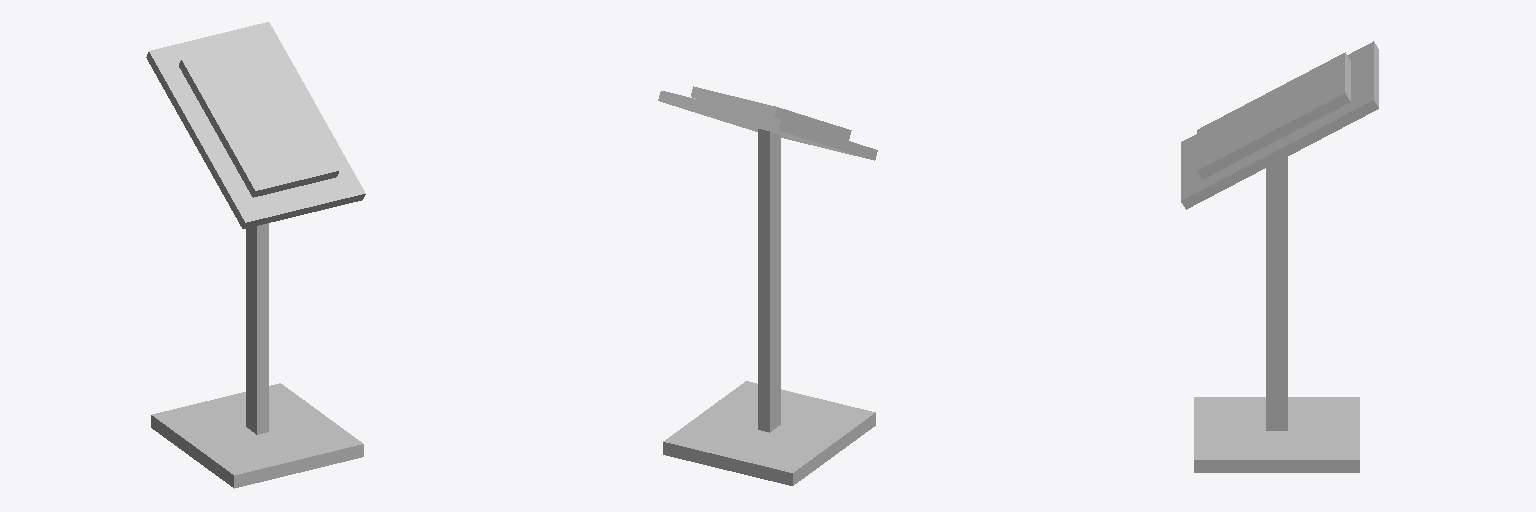
Rendered from DescriptionTing.obj.
3 views of the same model, side by side, from view 1: azimuth 30°, elevation 25°; view 2: azimuth 150°, elevation 25°; view 3: azimuth 270°, elevation 25° (orthographic).
Parts seen in each view (by area): view 1: Box098, Box095, Box097, Box096; view 2: Box095, Box096, Box097, Box098; view 3: Box095, Box098, Box097, Box096.
Boxes of the visible parts, box(x1,y1,x2,y2) form: Box098: box(179, 39, 339, 197); Box095: box(151, 383, 363, 488); Box097: box(146, 22, 365, 228); Box096: box(246, 223, 268, 434); Box095: box(663, 381, 875, 485); Box096: box(758, 129, 780, 432); Box097: box(658, 91, 877, 160); Box098: box(691, 86, 851, 140); Box095: box(1194, 397, 1359, 472); Box098: box(1197, 52, 1350, 179); Box097: box(1181, 41, 1378, 209); Box096: box(1266, 157, 1287, 430).
Size of the model in its own units: 17.26 by 47.18 by 22.94.